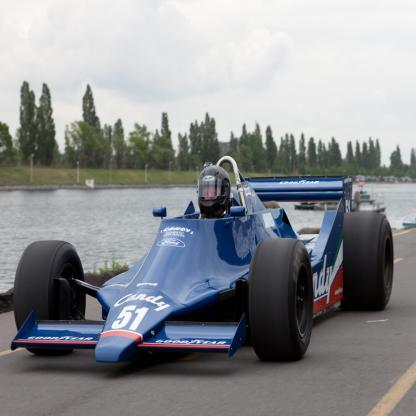Helmet: (198, 170, 231, 213)
